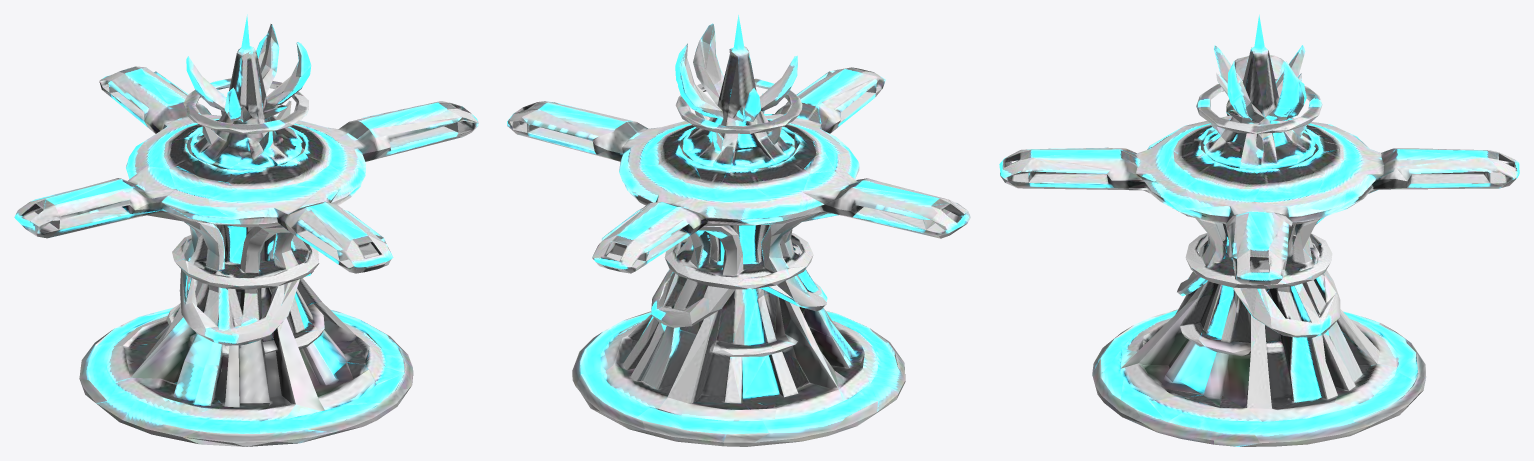
Rendered from skyport.glb.
3 views of the same model, side by side, from view 1: azimuth 30°, elevation 25°; view 2: azimuth 150°, elevation 25°; view 3: azimuth 270°, elevation 25° (orthographic).
Parts seen in each view (by area): view 1: Mesh_0; view 2: Mesh_0; view 3: Mesh_0.
Part boxes in pixels (x1,y1,x2,y2): Mesh_0: (14,14,478,446); Mesh_0: (507,15,970,446); Mesh_0: (999,14,1519,446).
Bounding box in the file's own units: 6.48 × 5 × 6.49.
1 material, 1 textured.
